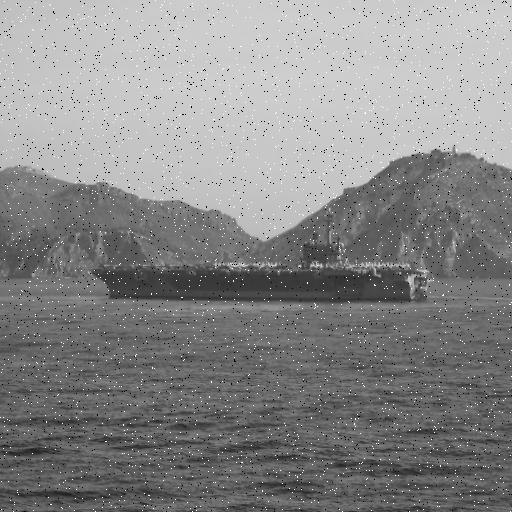Portanaves: (89, 205, 436, 304)
